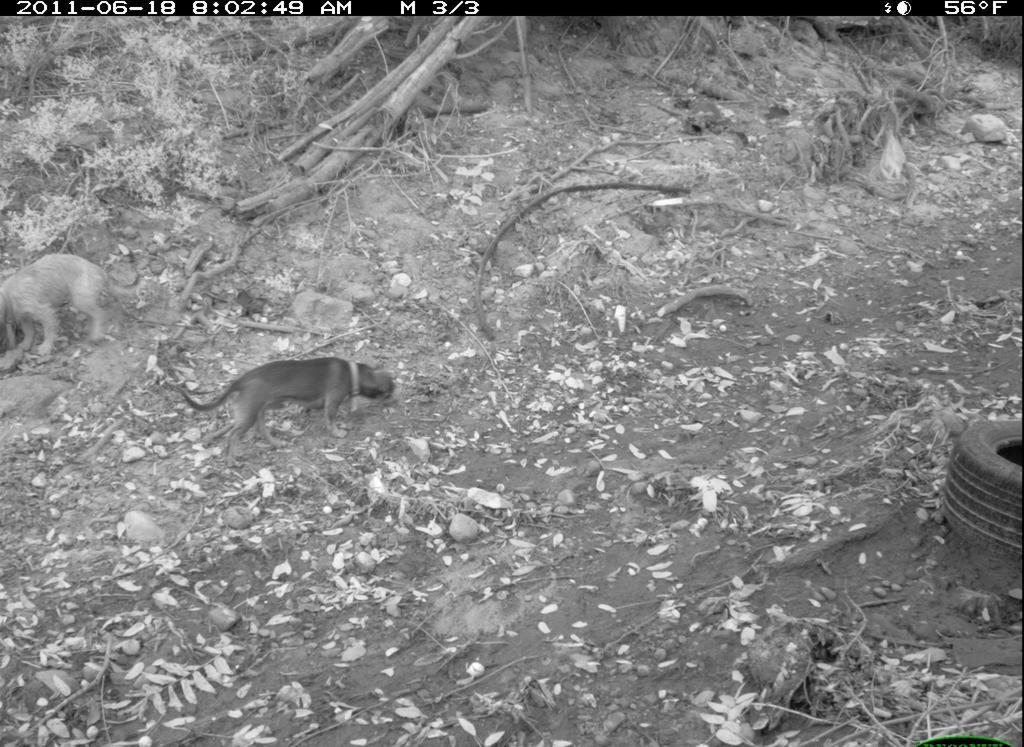dog: (178, 350, 410, 465), (2, 245, 143, 358)
